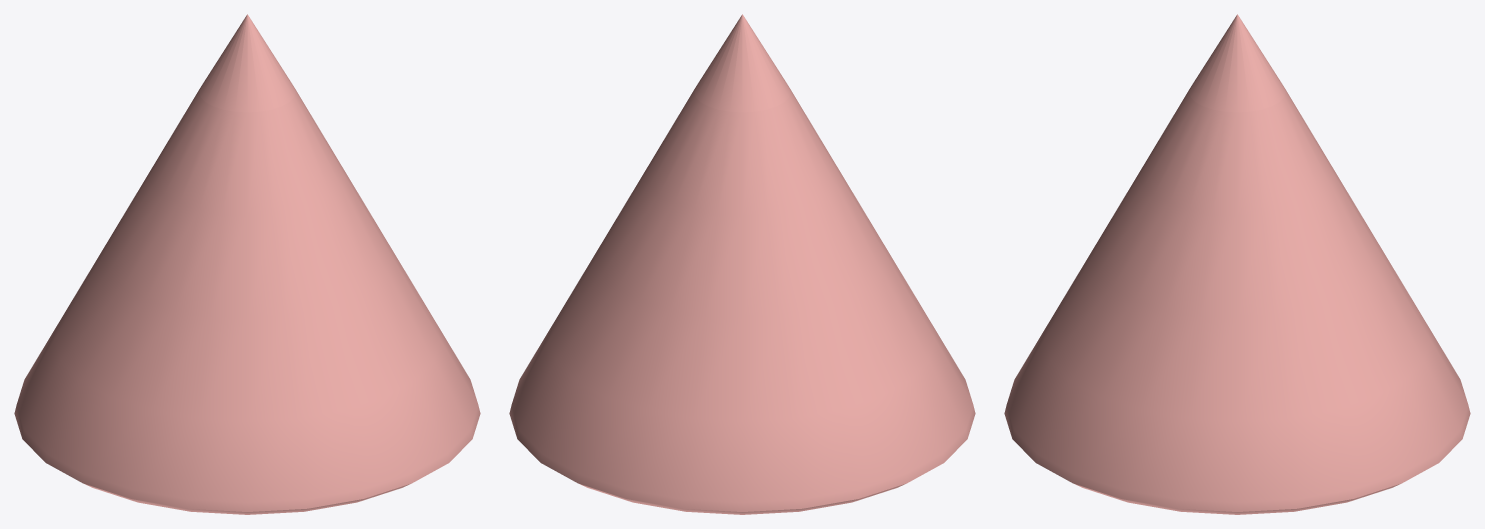
The model's file is BasicShape1.fbx.
3 renders of one model, left to right at view 1: azimuth 30°, elevation 25°; view 2: azimuth 150°, elevation 25°; view 3: azimuth 270°, elevation 25°, orthographic.
Visible parts, largest first — view 1: Piece1; view 2: Piece1; view 3: Piece1.
Boxes of the visible parts, <box> form: Piece1: <box>14,14,480,514</box>; Piece1: <box>509,14,975,514</box>; Piece1: <box>1004,14,1470,514</box>.
Size of the model in its own units: 33.83 by 32.7 by 33.83.
